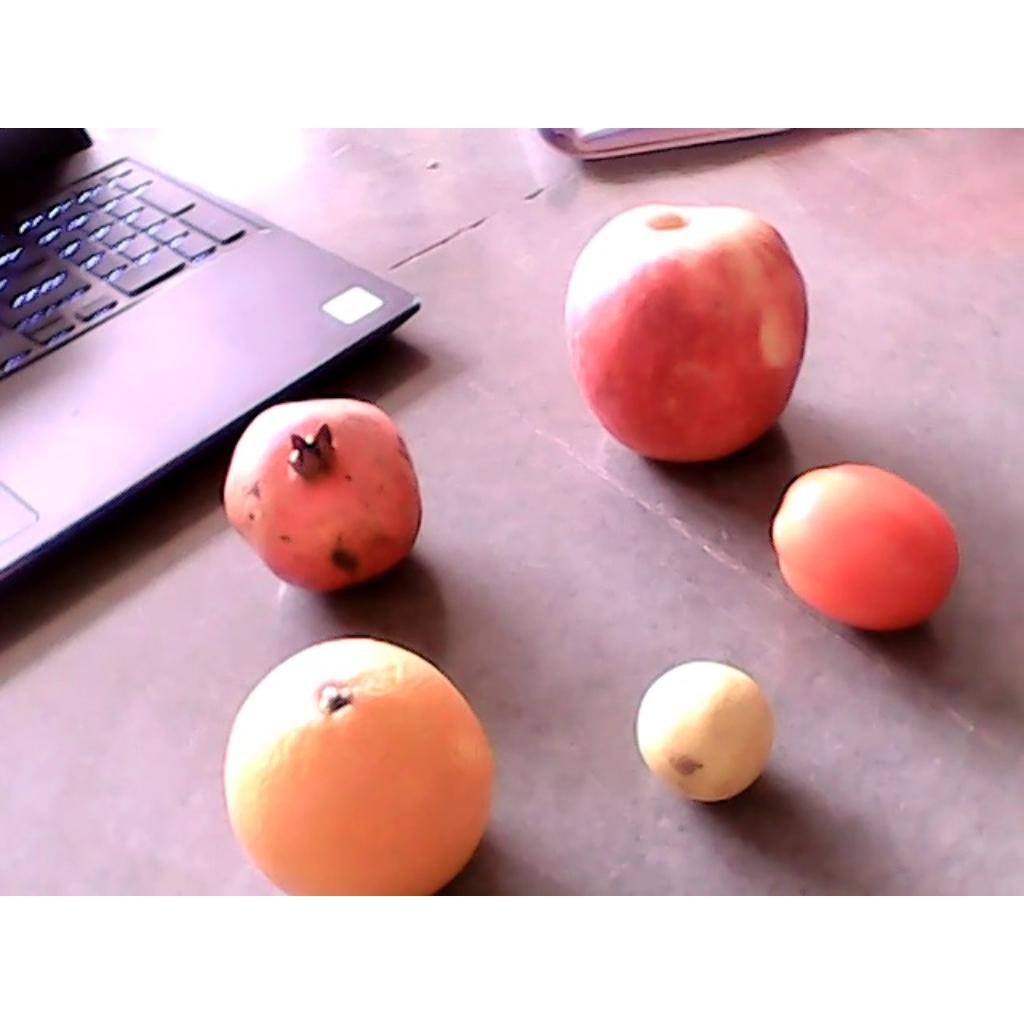apple: (565, 207, 810, 461)
lemon: (636, 659, 774, 804)
orange: (221, 641, 497, 894)
pomegranate: (223, 400, 424, 594)
tomato: (774, 460, 958, 628)
